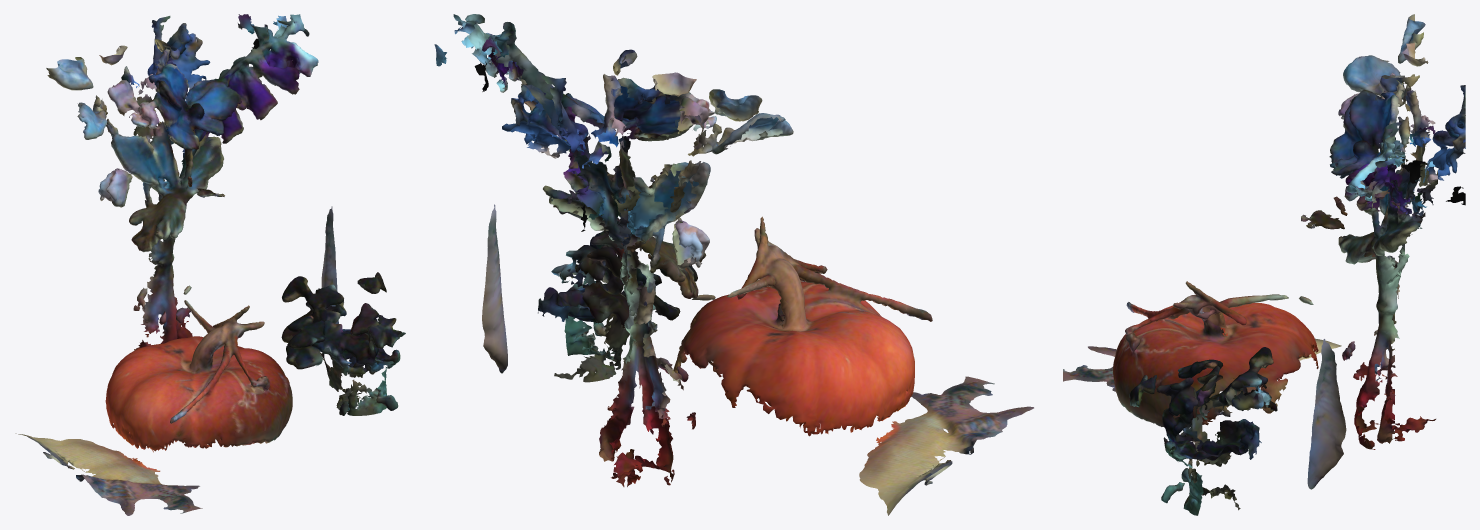
File: plante.glb
The picture shows the model from 3 angles, left to right: view 1: azimuth 30°, elevation 25°; view 2: azimuth 150°, elevation 25°; view 3: azimuth 270°, elevation 25°; orthographic projection. The views are drawn at different scales.
Visible parts, largest first — view 1: Model; view 2: Model; view 3: Model.
Part boxes in pixels (x1,y1,x2,y2): Model: (15, 14, 405, 515); Model: (434, 14, 1033, 515); Model: (1063, 14, 1465, 515).
Bounding box in the file's own units: 0.4773 × 0.4804 × 0.4771.
Materials: 1 (1 with a texture image).
